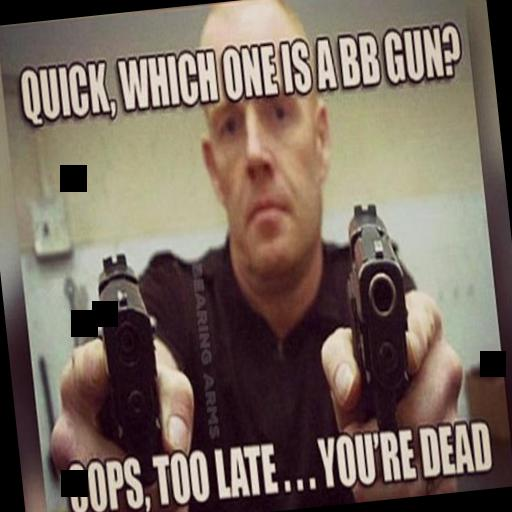Handgun: (336, 192, 424, 451), (87, 238, 170, 484)
